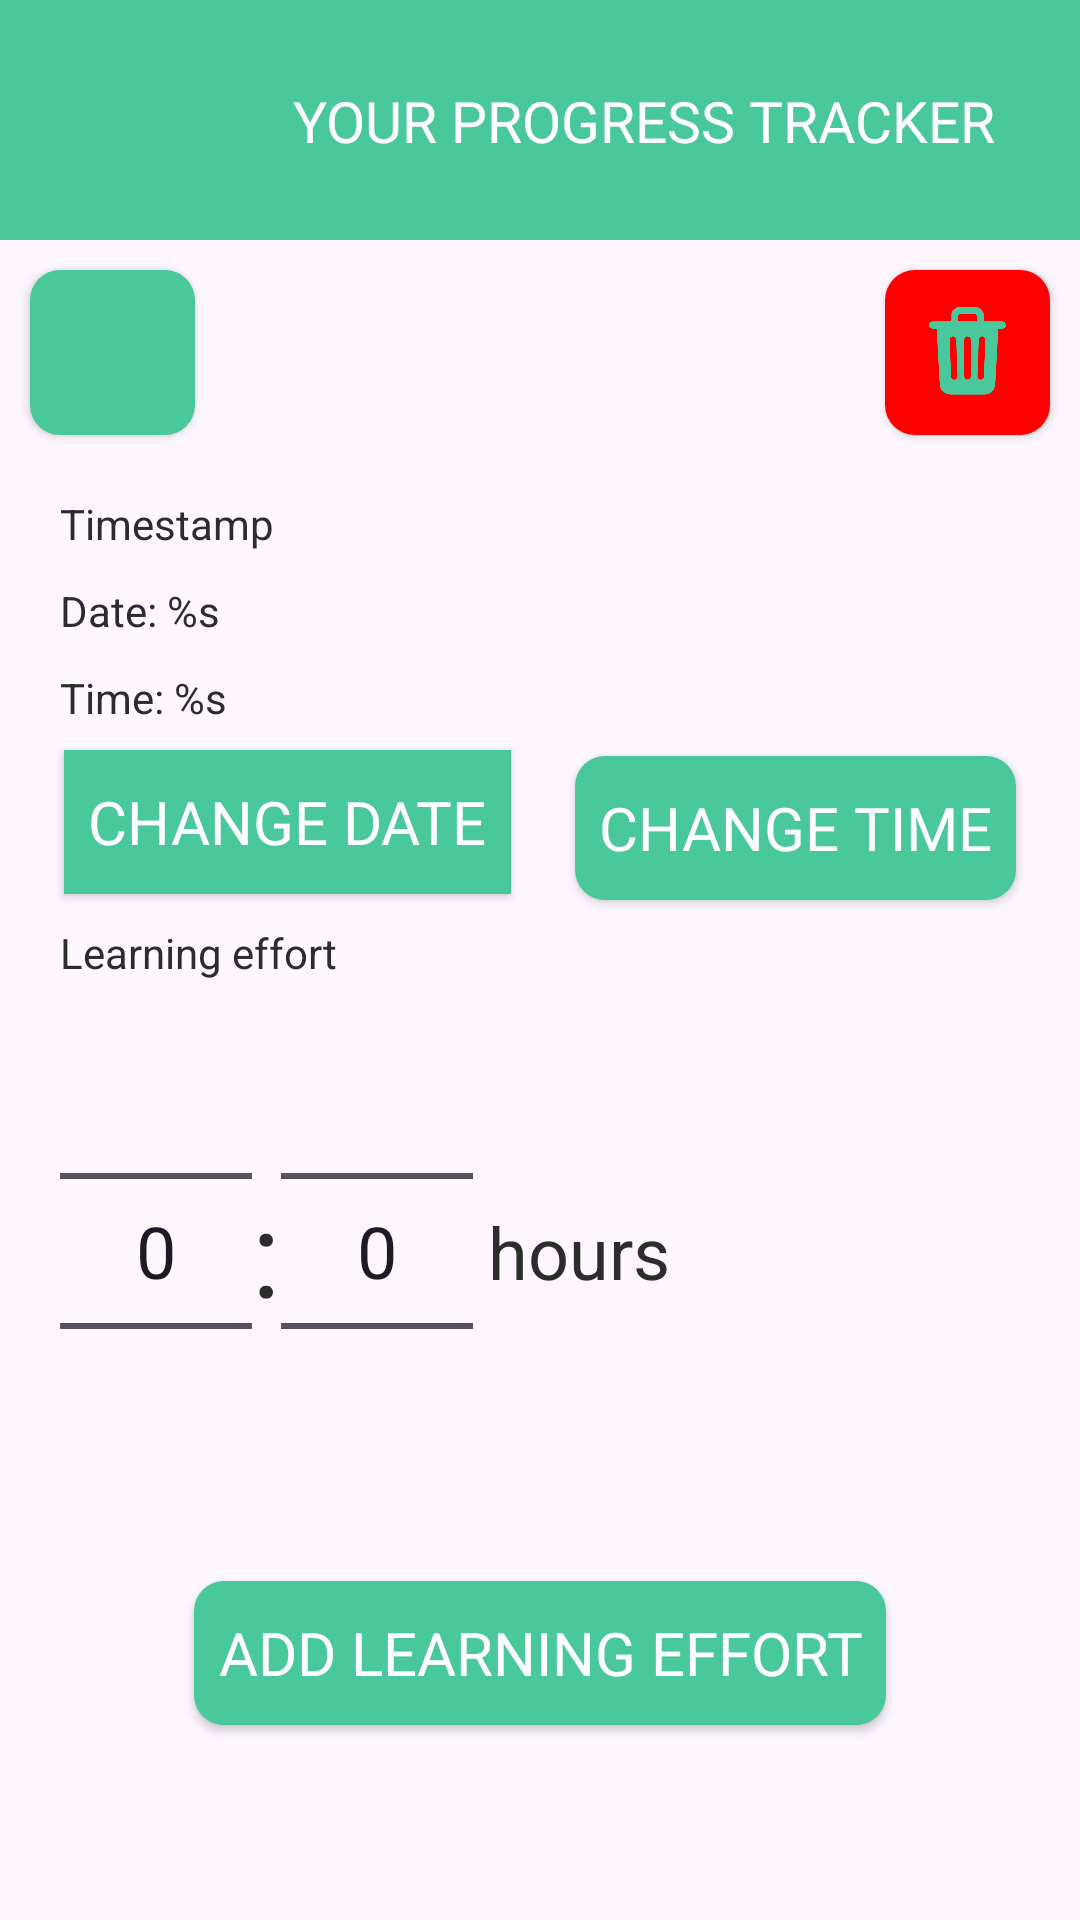

Icon click points for this 1080px x 1920px phone screenshot, format (x=x, y=y):
Delete: (x=967, y=352)
